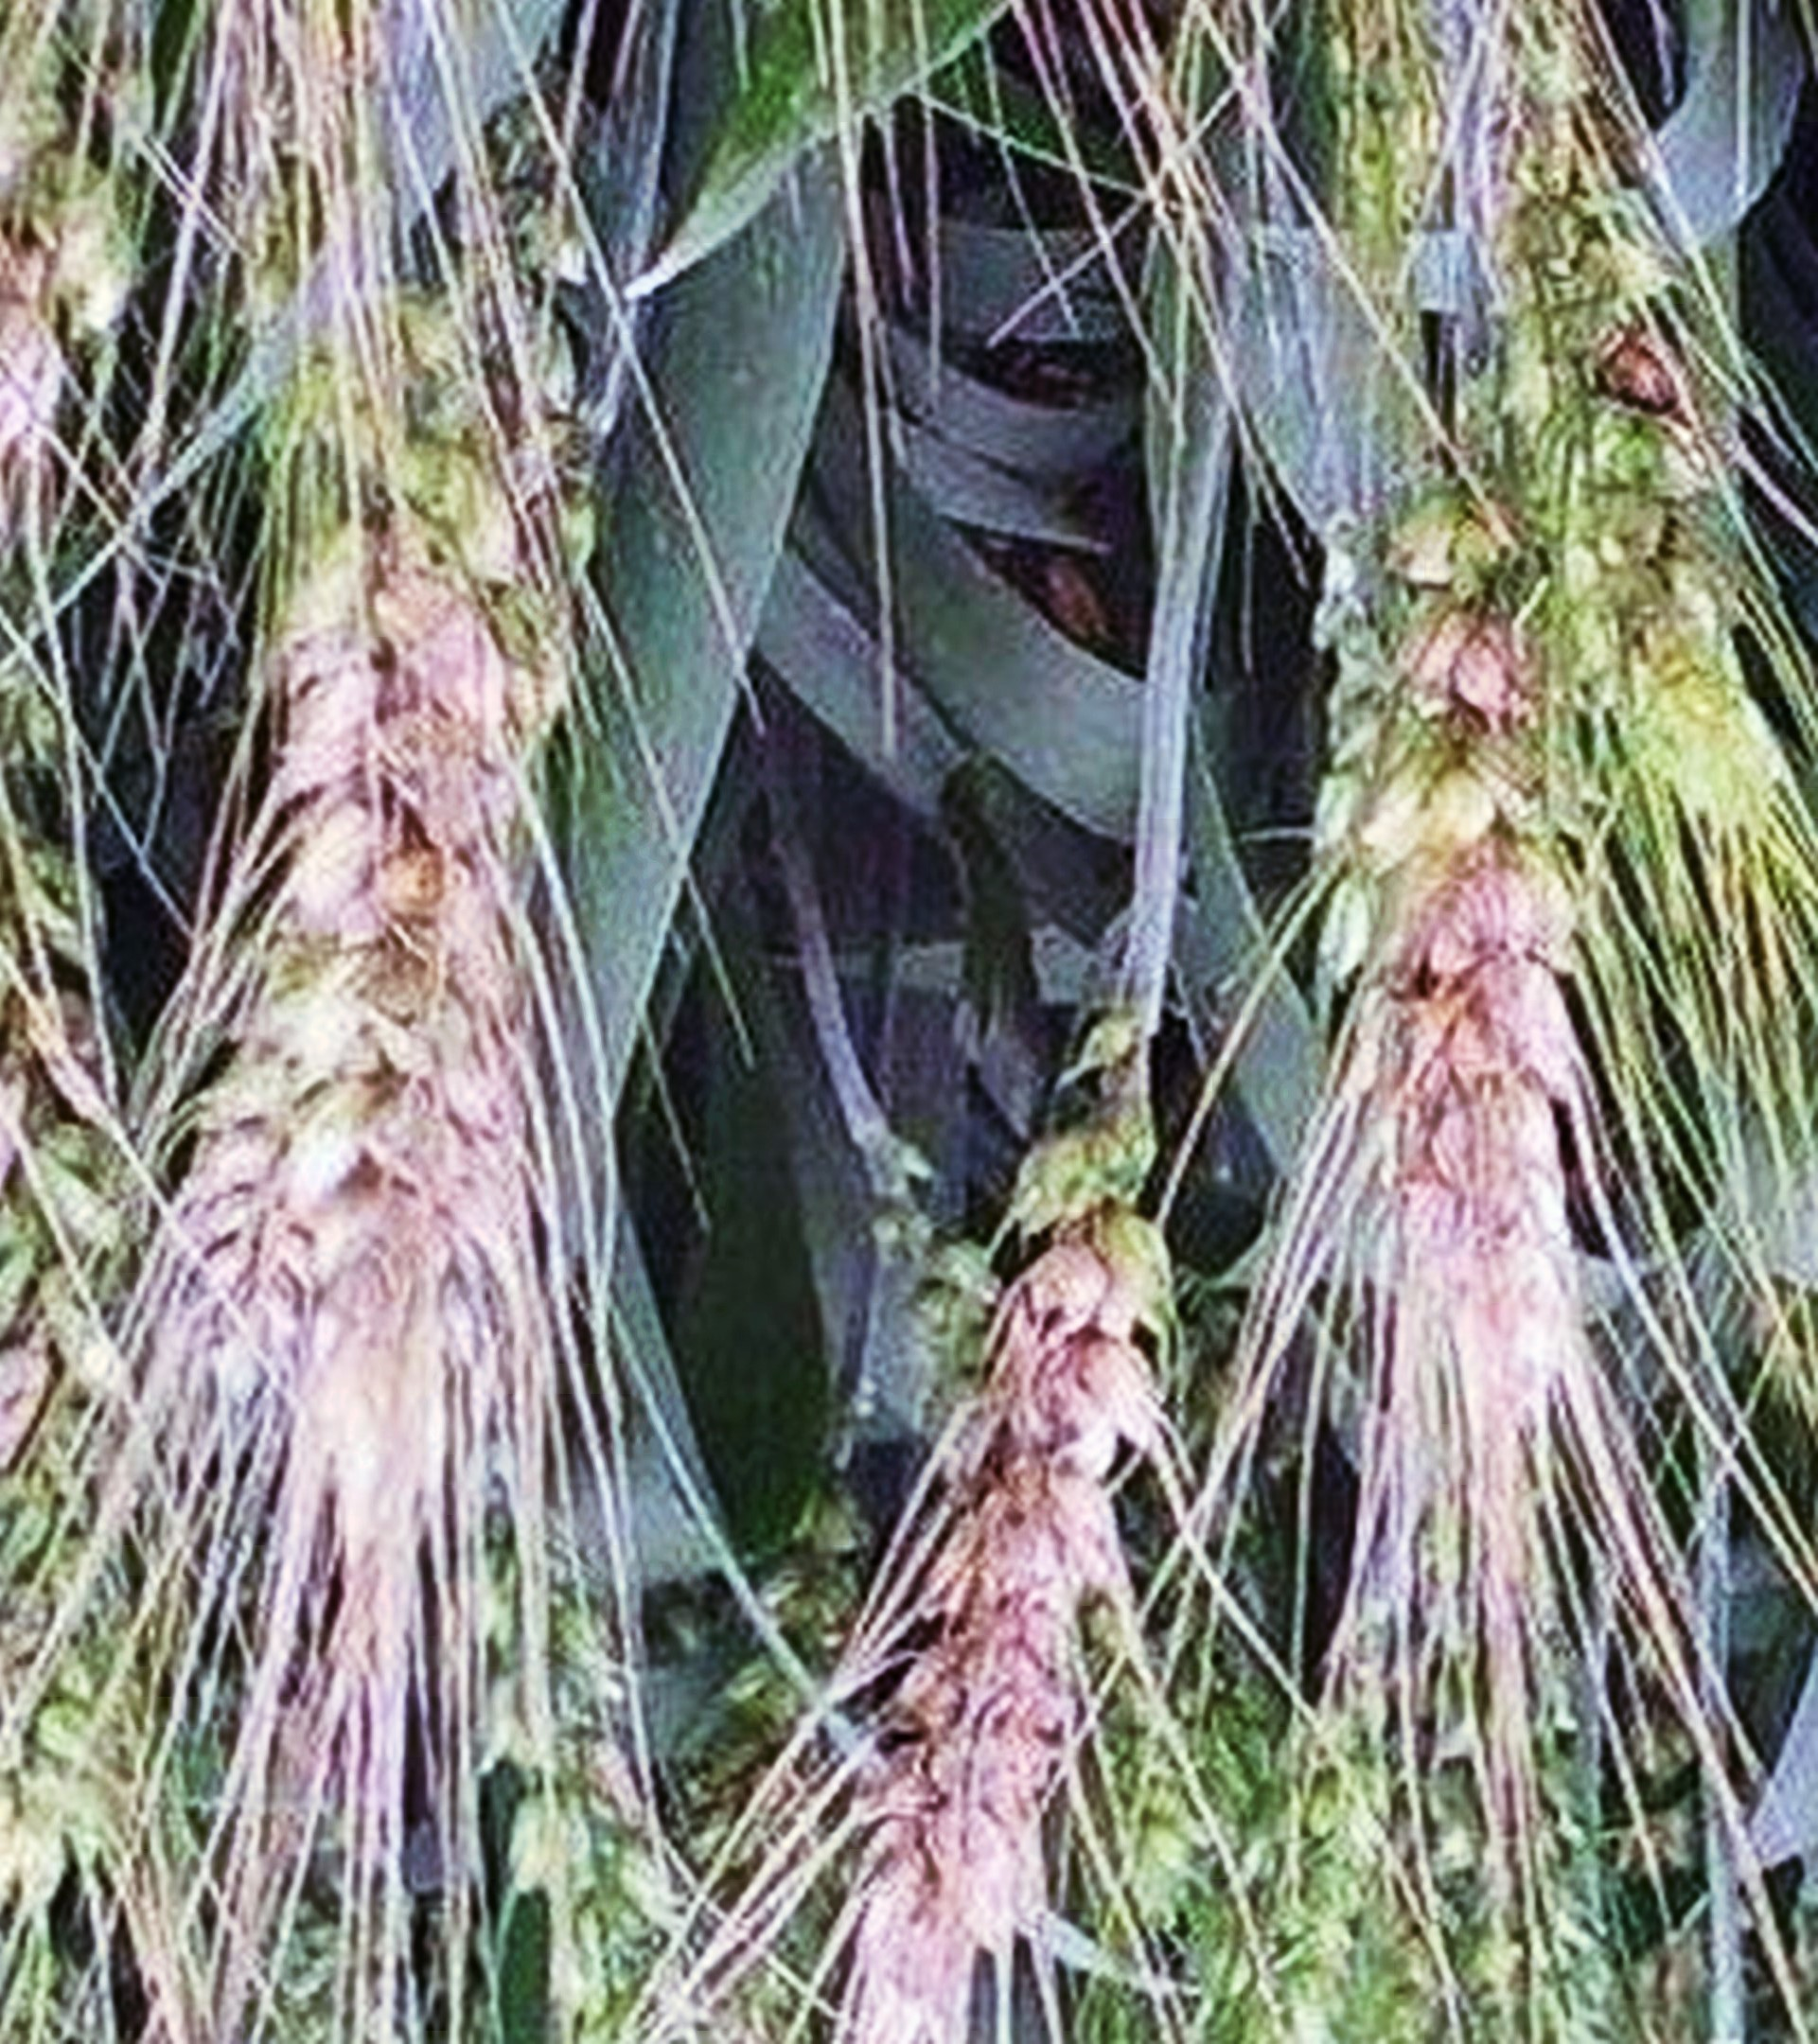Wheat scab: (1330, 416, 1607, 1537), (855, 1068, 1195, 1919)
